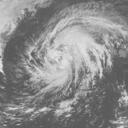cyclone: (24, 1, 124, 97)
